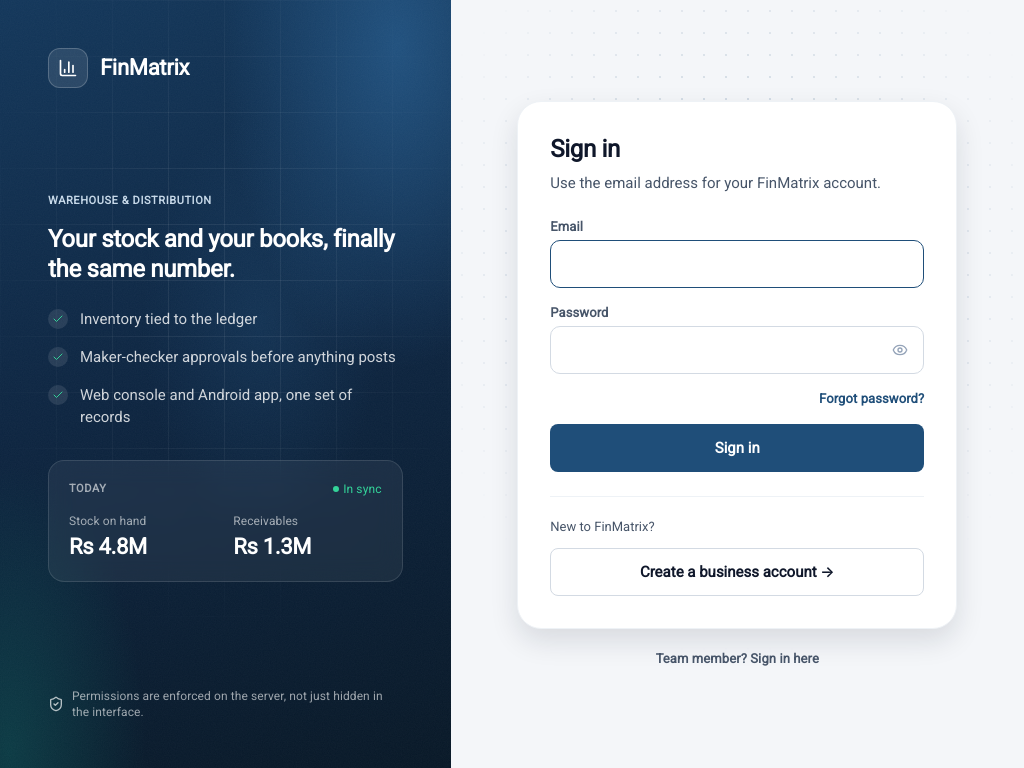
portal enforcement on sign-in › keeps a team member off the owner door
The width and height of the screenshot is (1024, 768).
Type "staff@example.com" into the field labelled "Email".
click(737, 264); type("staff@example.com")  # box [550, 240, 924, 288]
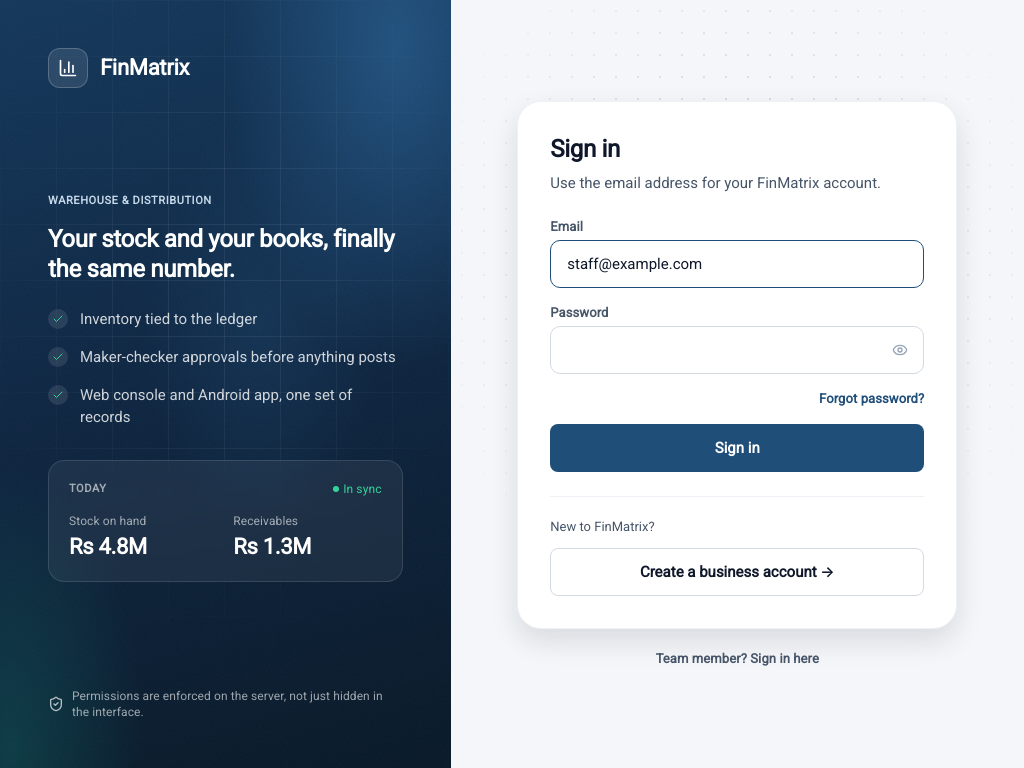
Type "pw" into the password field labelled "Password".
click(737, 350); type("pw")  # box [550, 326, 924, 374]
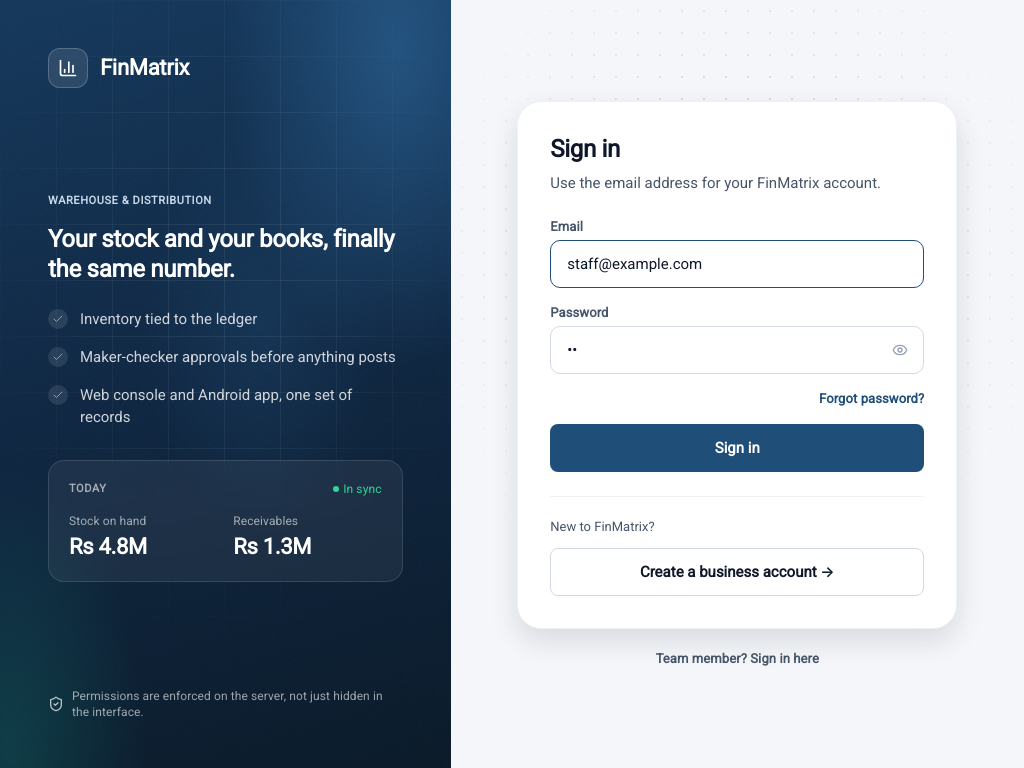
Click the button "Sign in".
click(737, 448)  # box [550, 424, 924, 472]
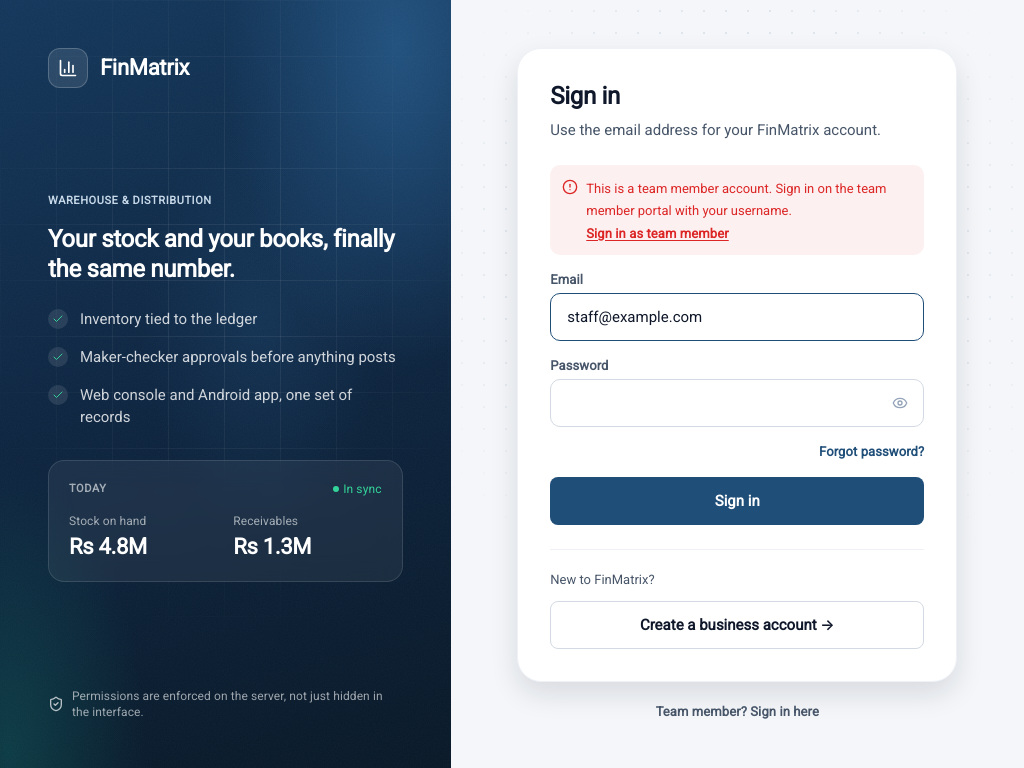
Check: the message shows "team member account", box [586, 180, 886, 218]
Check: the button "Sign in as team member" is shown, box [586, 224, 729, 242]
